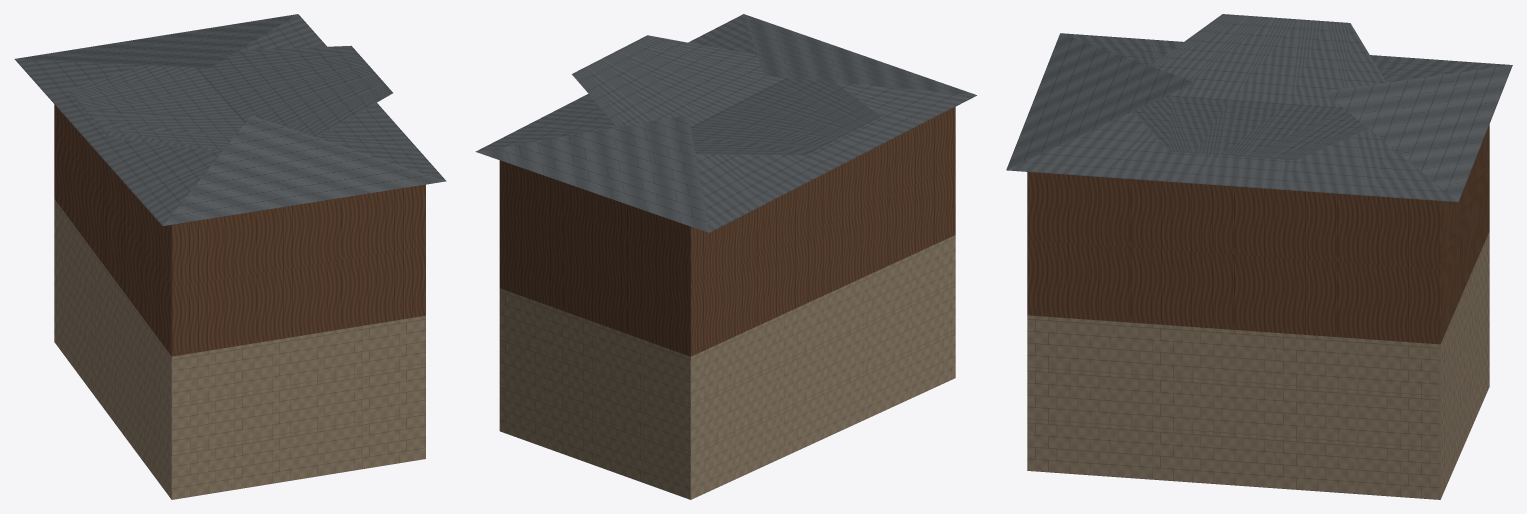
File: bld_c30_-40_472.gltf
3 renders of one model, left to right at view 1: azimuth 30°, elevation 25°; view 2: azimuth 150°, elevation 25°; view 3: azimuth 270°, elevation 25°, orthographic. The views are drawn at different scales.
Parts seen in each view (by area): view 1: bld_c30_-40_472; view 2: bld_c30_-40_472; view 3: bld_c30_-40_472.
Part boxes in pixels (x1,y1,x2,y2): bld_c30_-40_472: [14, 14, 446, 499]; bld_c30_-40_472: [475, 14, 976, 499]; bld_c30_-40_472: [1006, 14, 1512, 499].
Size of the model in its own units: 11.84 by 11 by 15.
3 materials, 3 textured.
